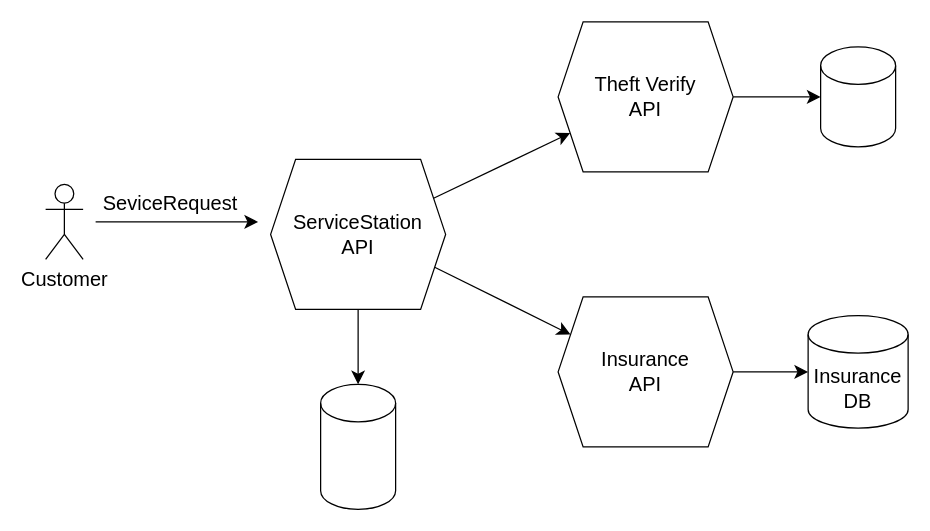
This 930x531 diagram has some shape labels left out. Each missing label, with the box of its shape:
Service Center DB: (319, 383, 396, 509)
Theft DD: (819, 46, 896, 147)
